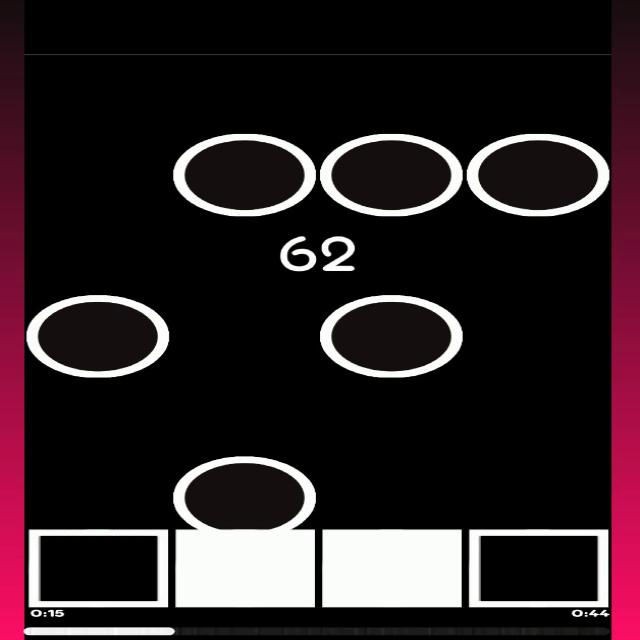note: (172, 130, 319, 220), (320, 130, 464, 219), (466, 132, 610, 219), (320, 294, 464, 380), (30, 293, 172, 379), (169, 454, 322, 530)
